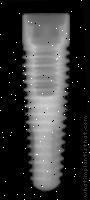Keystone Dental: (20, 13, 70, 193)
